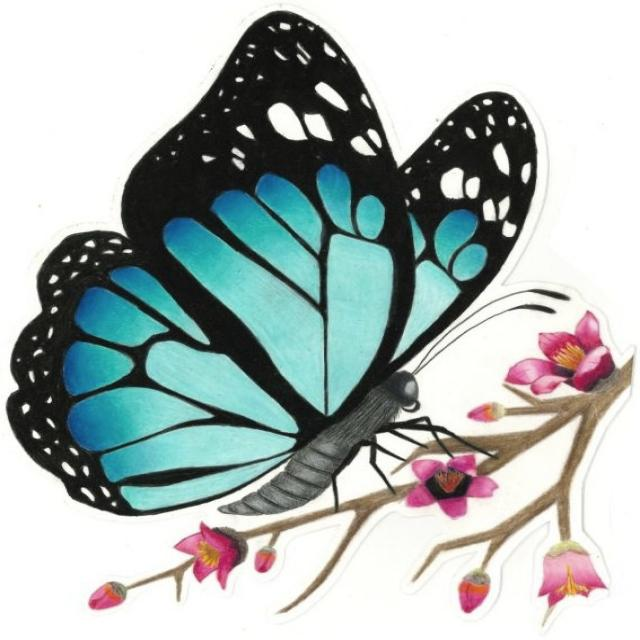butterfly: (8, 11, 571, 514)
